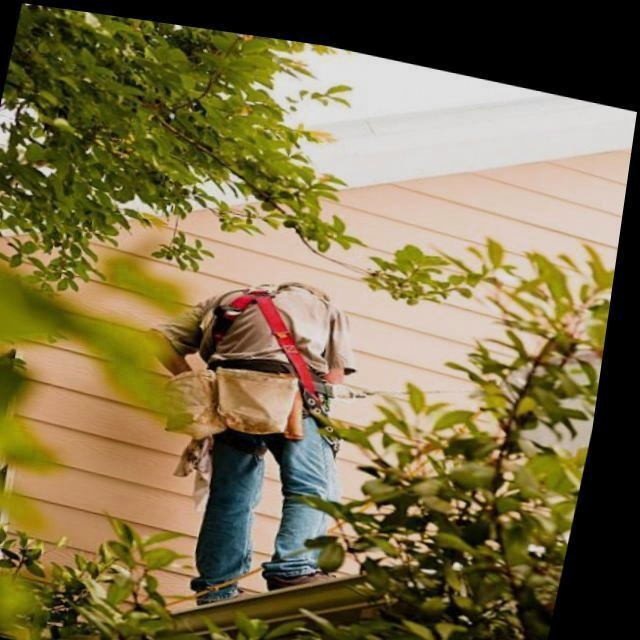safety belt: (206, 274, 355, 431)
